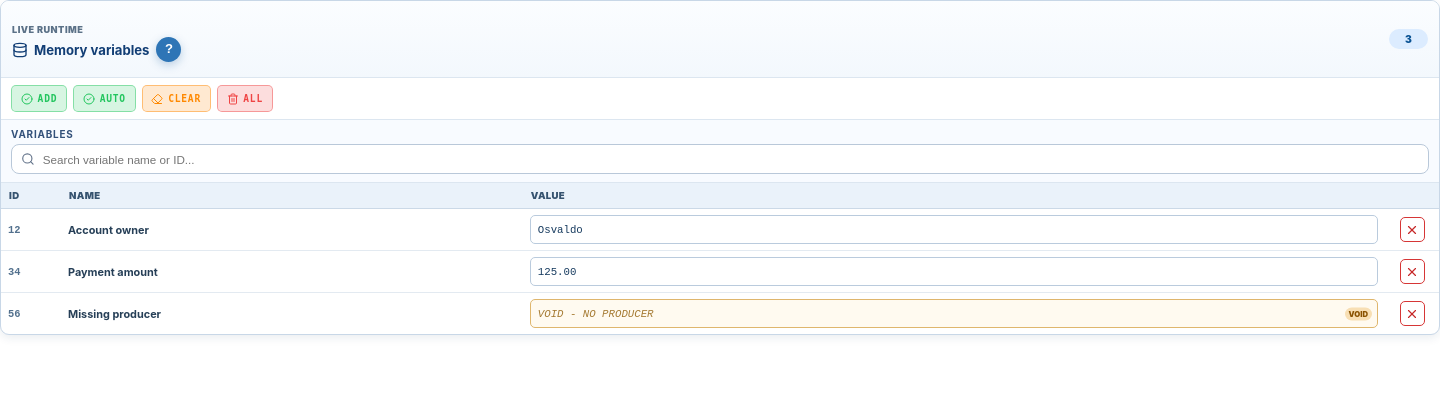
Scenario: clearing runtime memory search restores all rows
Type "no-match" into the search field named "Search memory variables" at (730, 159), box x1=41 y1=152 x2=1419 y2=166
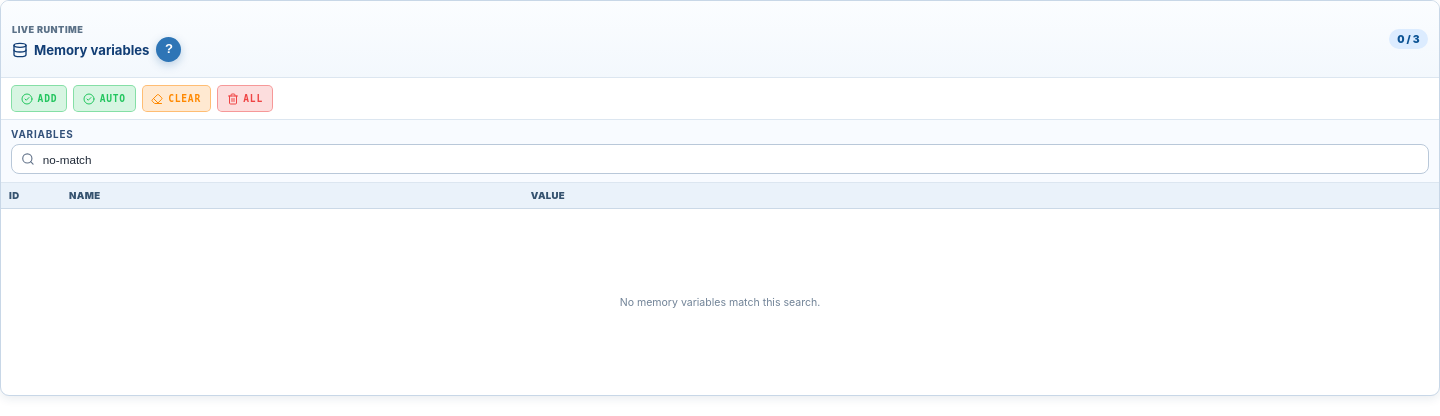
Expected: the message reads "No memory variables match this search.", x1=620 y1=296 x2=820 y2=308
Clear the search field named "Search memory variables" at (730, 159), box x1=41 y1=152 x2=1419 y2=166
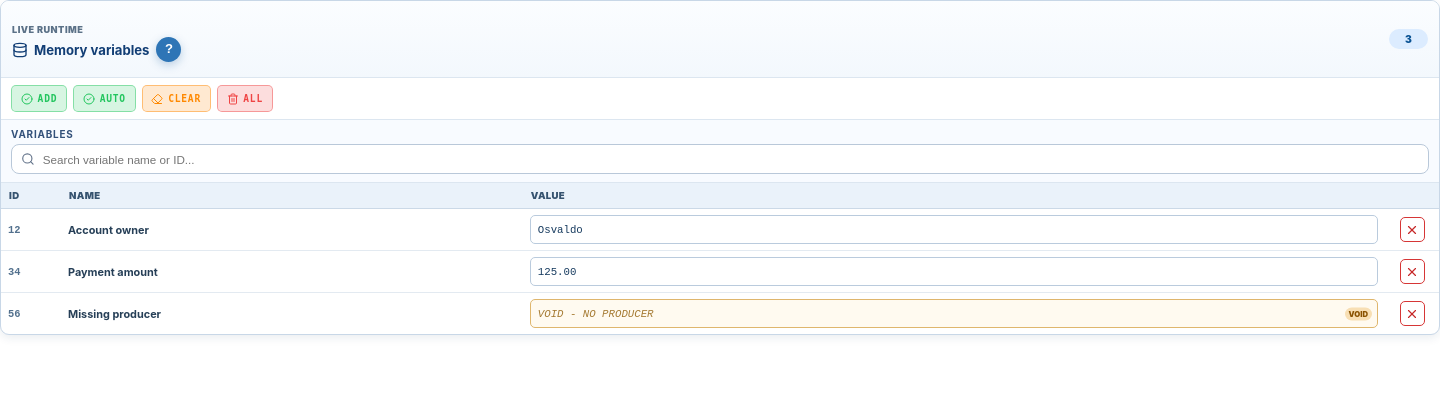
Expected: the text "Account owner" is shown, x1=68 y1=222 x2=149 y2=236
Expected: the text "Payment amount" is shown, x1=68 y1=264 x2=158 y2=278
Expected: the text "Missing producer" is shown, x1=68 y1=306 x2=161 y2=320
